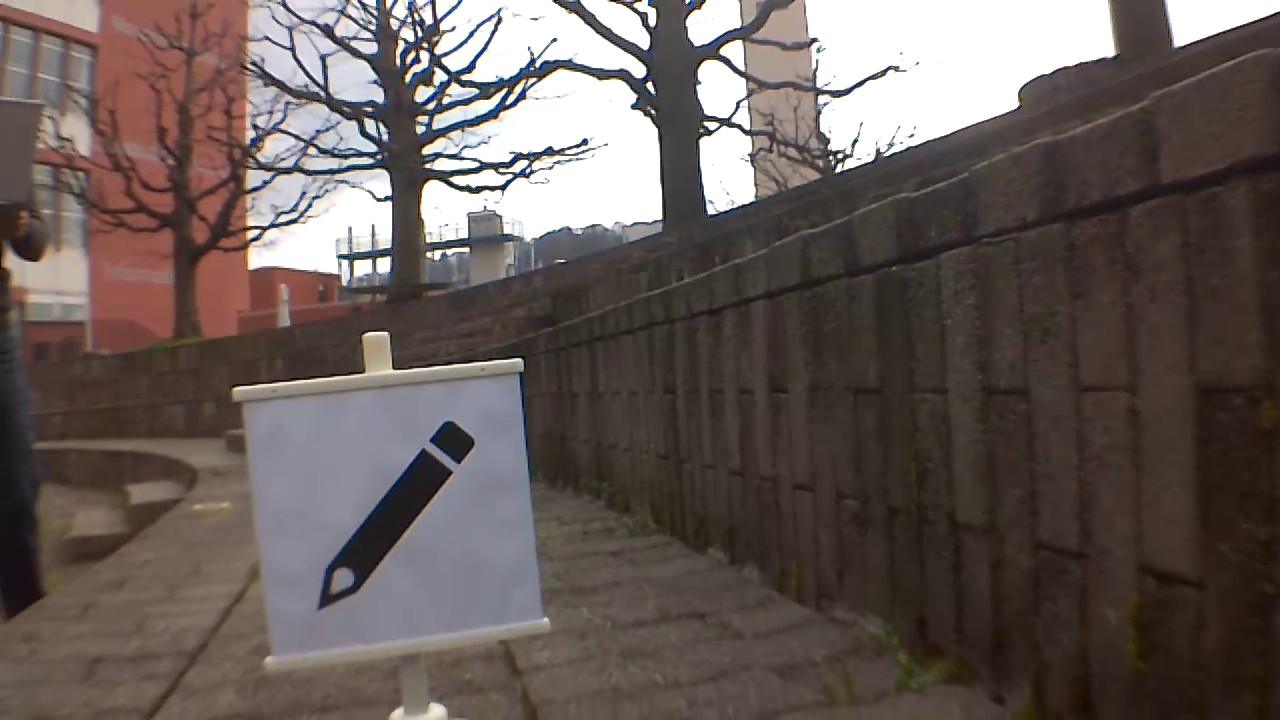pencil: (311, 417, 475, 612)
